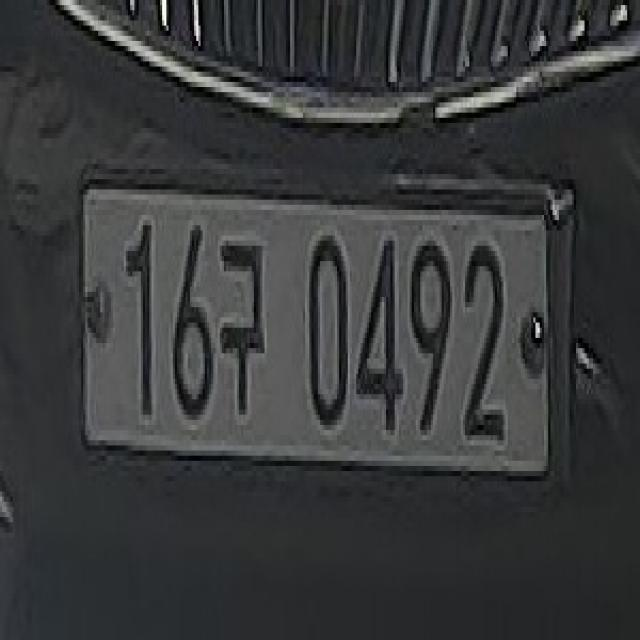0: (301, 220, 356, 451)
1: (120, 210, 164, 435)
2: (459, 230, 518, 456)
4: (357, 225, 408, 451)
6: (166, 215, 218, 440)
9: (410, 235, 452, 440)
gu: (216, 230, 273, 425)
license_plate: (75, 164, 578, 496)
